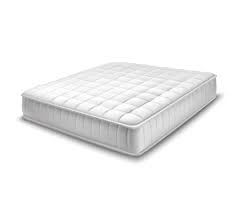bed-matress: (17, 59, 218, 159)
